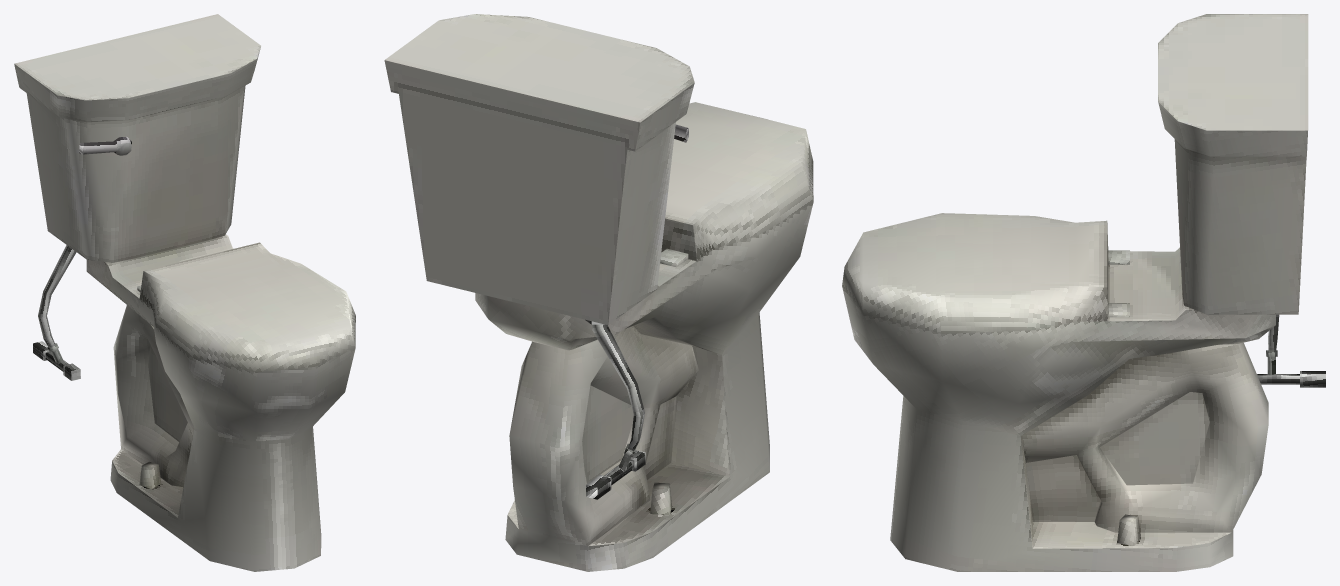
File: retro_lowpoly_toilet.glb
3 renders of one model, left to right at view 1: azimuth 30°, elevation 25°; view 2: azimuth 150°, elevation 25°; view 3: azimuth 270°, elevation 25°, orthographic. The views are drawn at different scales.
Parts seen in each view (by area): view 1: Object_4; view 2: Object_4; view 3: Object_4.
Boxes of the visible parts, box(x1,y1,x2,y2) form: Object_4: box(14, 14, 355, 571); Object_4: box(384, 14, 813, 571); Object_4: box(842, 14, 1325, 571).
Size of the model in its own units: 0.3798 by 0.7108 by 0.6663.
Materials: 1 (1 with a texture image).
